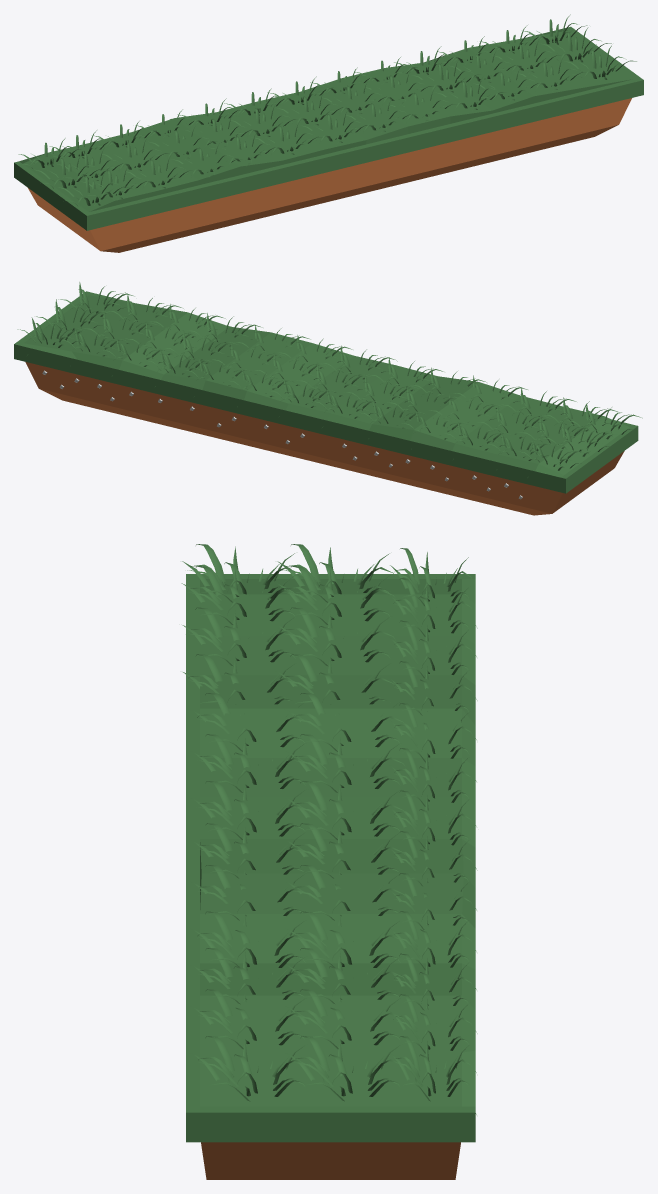
Rendered from GameGround.fbx.
3 renders of one model, top to bottom at view 1: azimuth 30°, elevation 25°; view 2: azimuth 150°, elevation 25°; view 3: azimuth 270°, elevation 25°, orthographic. The views are drawn at different scales.
Visible parts, largest first — view 1: Plane, Grass_20, Grass_20.001, Grass_20.037, Grass_20.024, Grass_20.038; view 2: Plane, Grass_20, Grass_20.001, Grass_20.038, Grass_20.024, Grass_20.037, Grass_20.011, Grass_20.010, Grass_20.012; view 3: Plane, Grass_20, Grass_20.001, Grass_20.037, Grass_20.038, Grass_20.015, Grass_20.014, Grass_20.013, Grass_20.012, Grass_20.020, Grass_20.011, Grass_20.010 (+13 smaller).
Boxes of the visible parts, bbox=[...] form: Plane: bbox=[14, 26, 643, 252]; Grass_20: bbox=[564, 45, 636, 79]; Grass_20.001: bbox=[539, 27, 611, 62]; Grass_20.037: bbox=[58, 171, 130, 205]; Grass_20.024: bbox=[524, 14, 587, 44]; Grass_20.038: bbox=[32, 154, 105, 188]; Plane: bbox=[14, 291, 638, 515]; Grass_20: bbox=[58, 282, 134, 316]; Grass_20.001: bbox=[36, 299, 112, 334]; Grass_20.038: bbox=[543, 421, 617, 456]; Grass_20.024: bbox=[17, 317, 85, 355]; Grass_20.037: bbox=[567, 403, 642, 439]; Grass_20.011: bbox=[186, 313, 262, 346]; Grass_20.010: bbox=[164, 330, 238, 364]; Grass_20.012: bbox=[320, 345, 397, 380]; Plane: bbox=[186, 574, 475, 1179]; Grass_20: bbox=[192, 1036, 310, 1101]; Grass_20.001: bbox=[286, 1036, 405, 1101]; Grass_20.037: bbox=[182, 544, 300, 602]; Grass_20.038: bbox=[277, 544, 395, 602]; Grass_20.015: bbox=[191, 734, 310, 792]; Grass_20.014: bbox=[286, 734, 404, 792]; Grass_20.013: bbox=[286, 781, 405, 840]; Grass_20.012: bbox=[191, 781, 309, 839]; Grass_20.020: bbox=[182, 607, 300, 665]; Grass_20.011: bbox=[192, 911, 309, 967]; Grass_20.010: bbox=[287, 911, 405, 967].
Size of the model in its own units: 1534 by 173 by 351.
